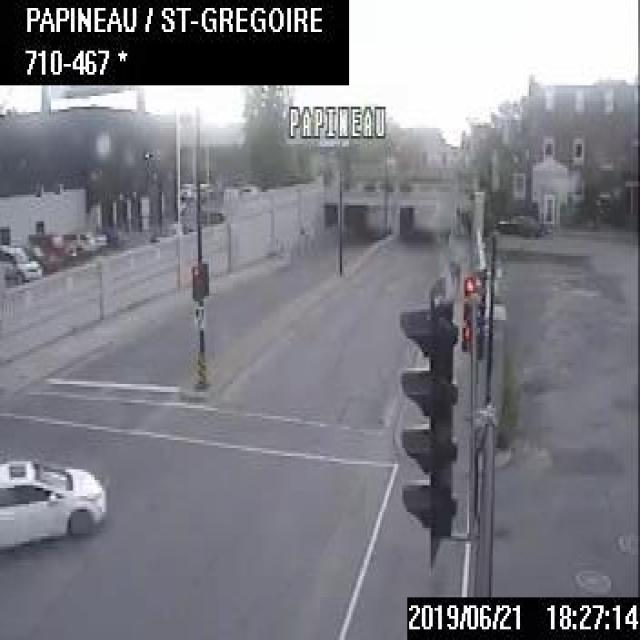vehicle: (0, 456, 104, 544), (494, 208, 548, 239), (0, 243, 42, 280), (28, 230, 76, 262)
